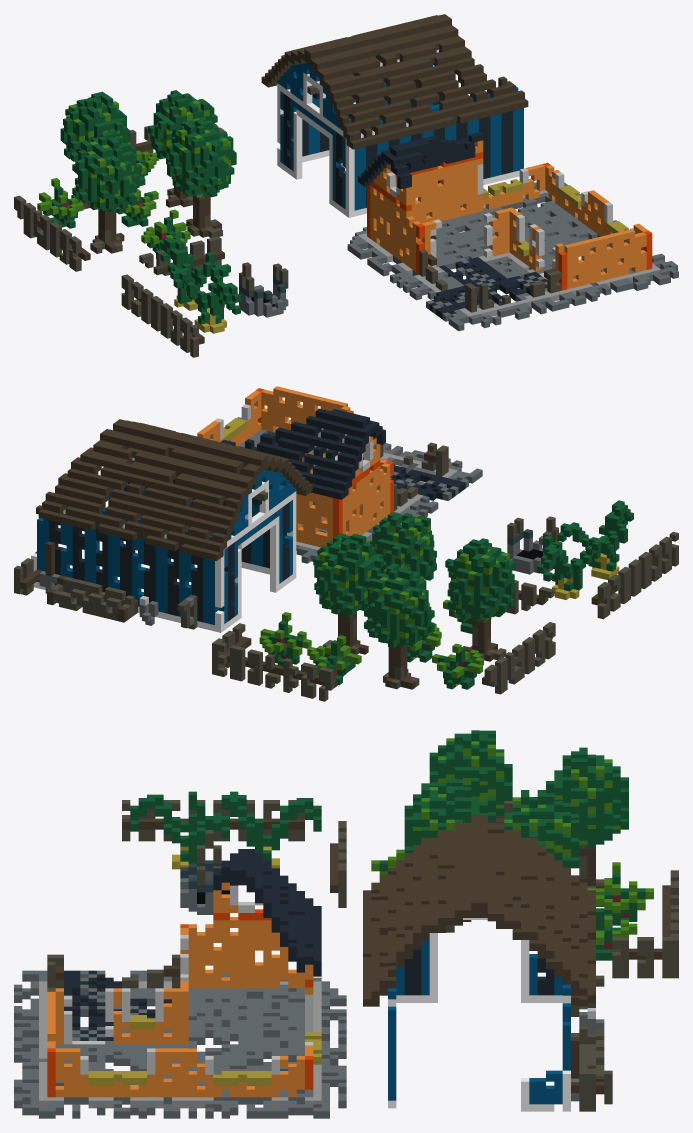
Rendered from farm_2_destroyed.obj.
3 views of the same model, one above another, from view 1: azimuth 30°, elevation 25°; view 2: azimuth 150°, elevation 25°; view 3: azimuth 270°, elevation 25° (orthographic). The views are drawn at different scales.
Size of the model in its own units: 8 by 2.4 by 8.
Materials: 1 (1 with a texture image).
